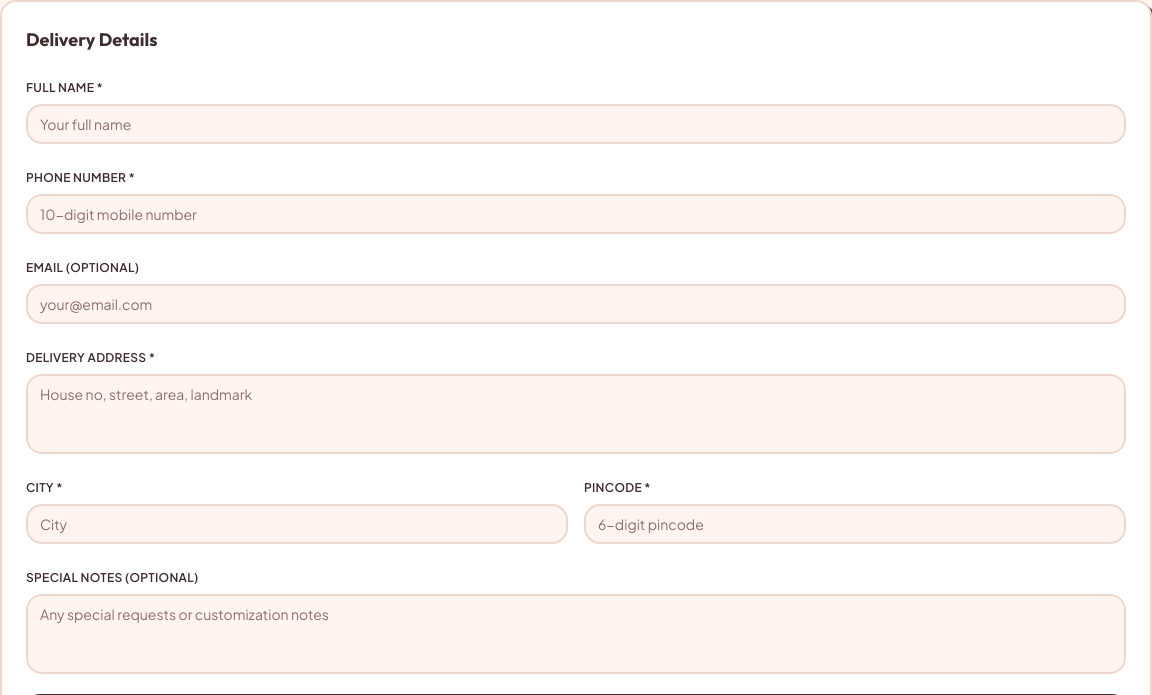
Test: OrderForm › shows validation error for invalid pincode
In the field labelled "Pincode *": point(855, 524) [584,504,1126,544], type "123"
(page scrolled)
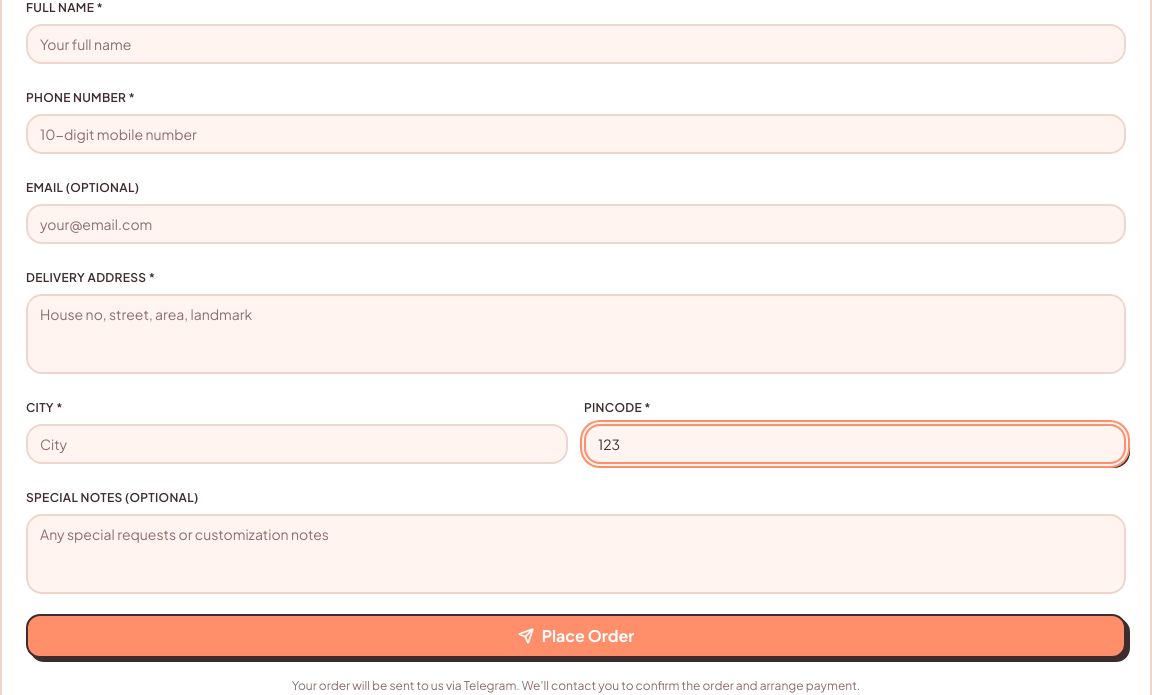
Click the button "Place Order": point(576, 636) [26,614,1126,658]
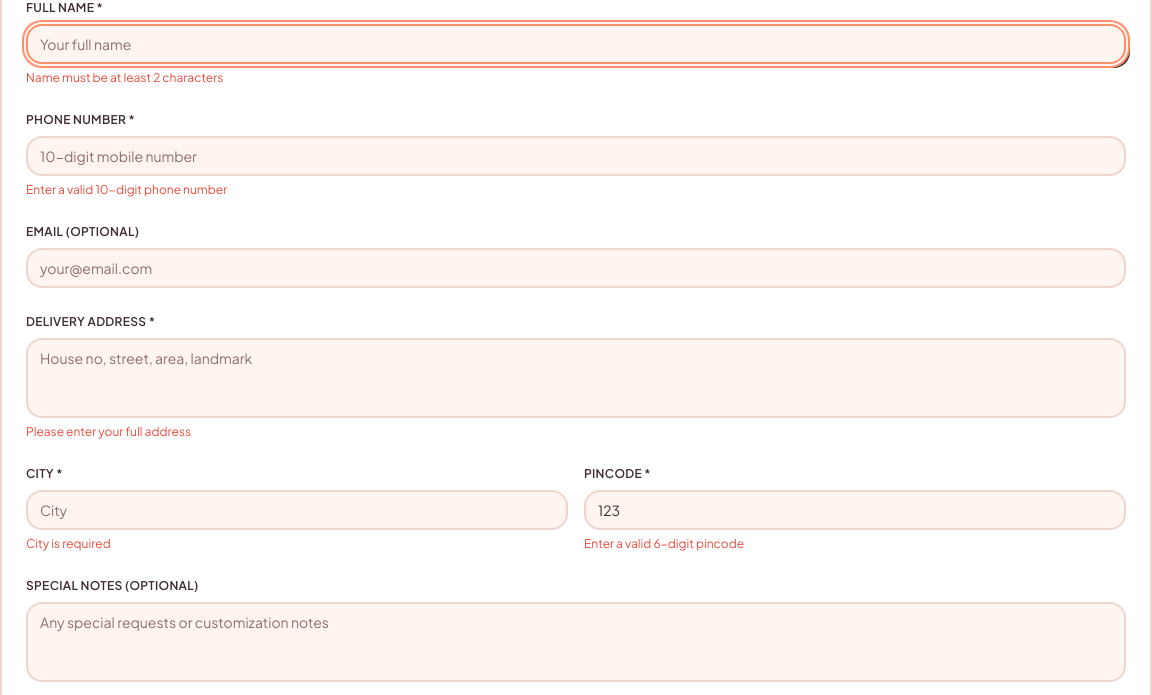
expect the text "Enter a valid 6-digit pincode" is shown: met, box [584,536,744,551]
